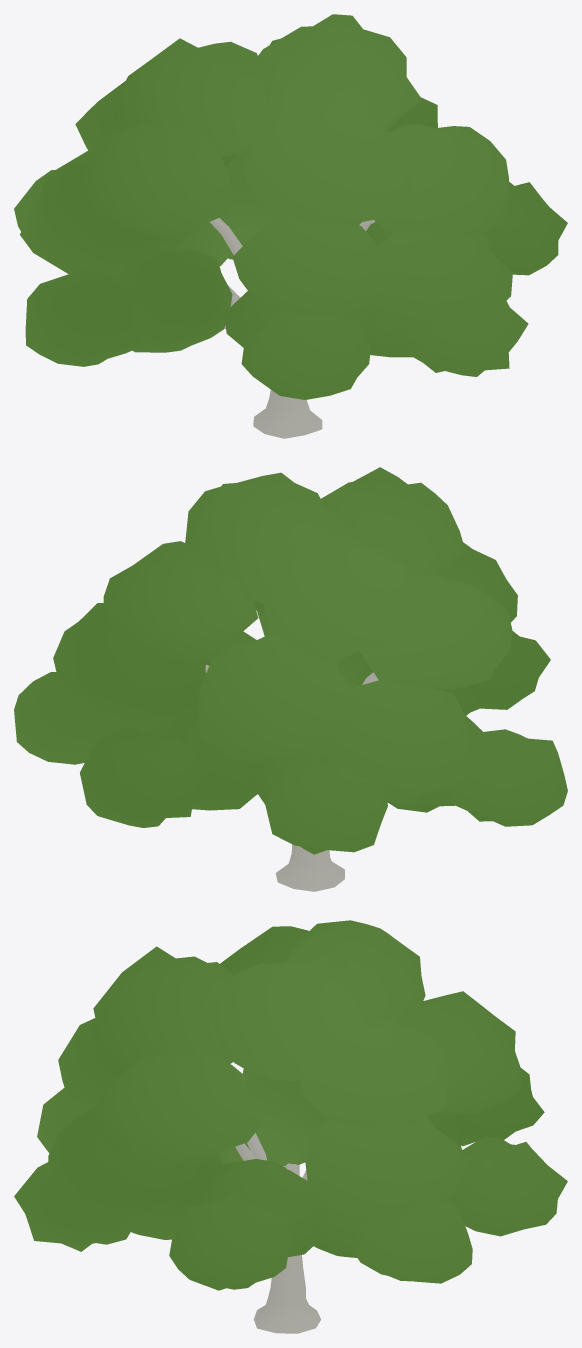
File: Blender_AmericanBeech_1.glb
The picture shows the model from 3 angles, top to bottom: view 1: azimuth 30°, elevation 25°; view 2: azimuth 150°, elevation 25°; view 3: azimuth 270°, elevation 25°; orthographic projection.
Visible parts, largest first — view 1: Blender_AmericanBeech_1; view 2: Blender_AmericanBeech_1; view 3: Blender_AmericanBeech_1.
Boxes of the visible parts, x1,y1,x2,y2 form: Blender_AmericanBeech_1: (14, 14, 567, 438); Blender_AmericanBeech_1: (14, 467, 567, 891); Blender_AmericanBeech_1: (14, 920, 567, 1333).
Size of the model in its own units: 23.11 by 16.91 by 22.51.
